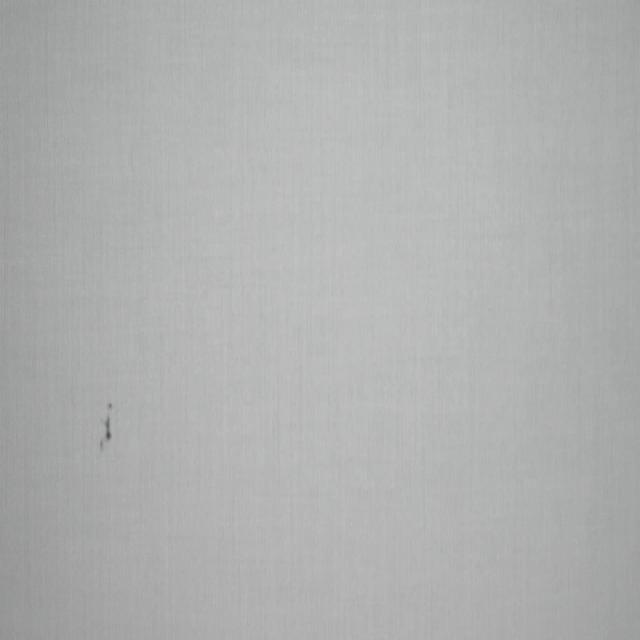dirty: (98, 401, 115, 453)
